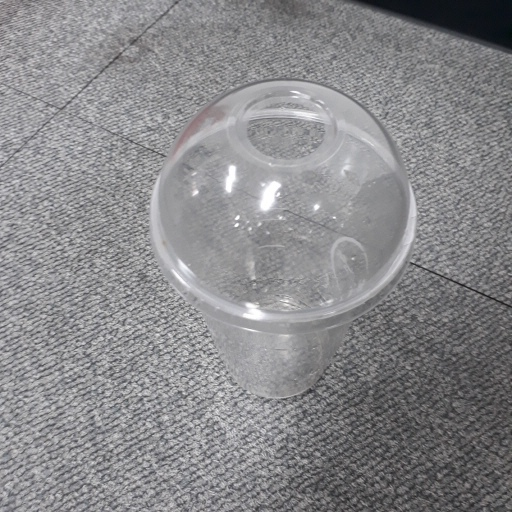Plastic_2: (147, 76, 417, 404)
